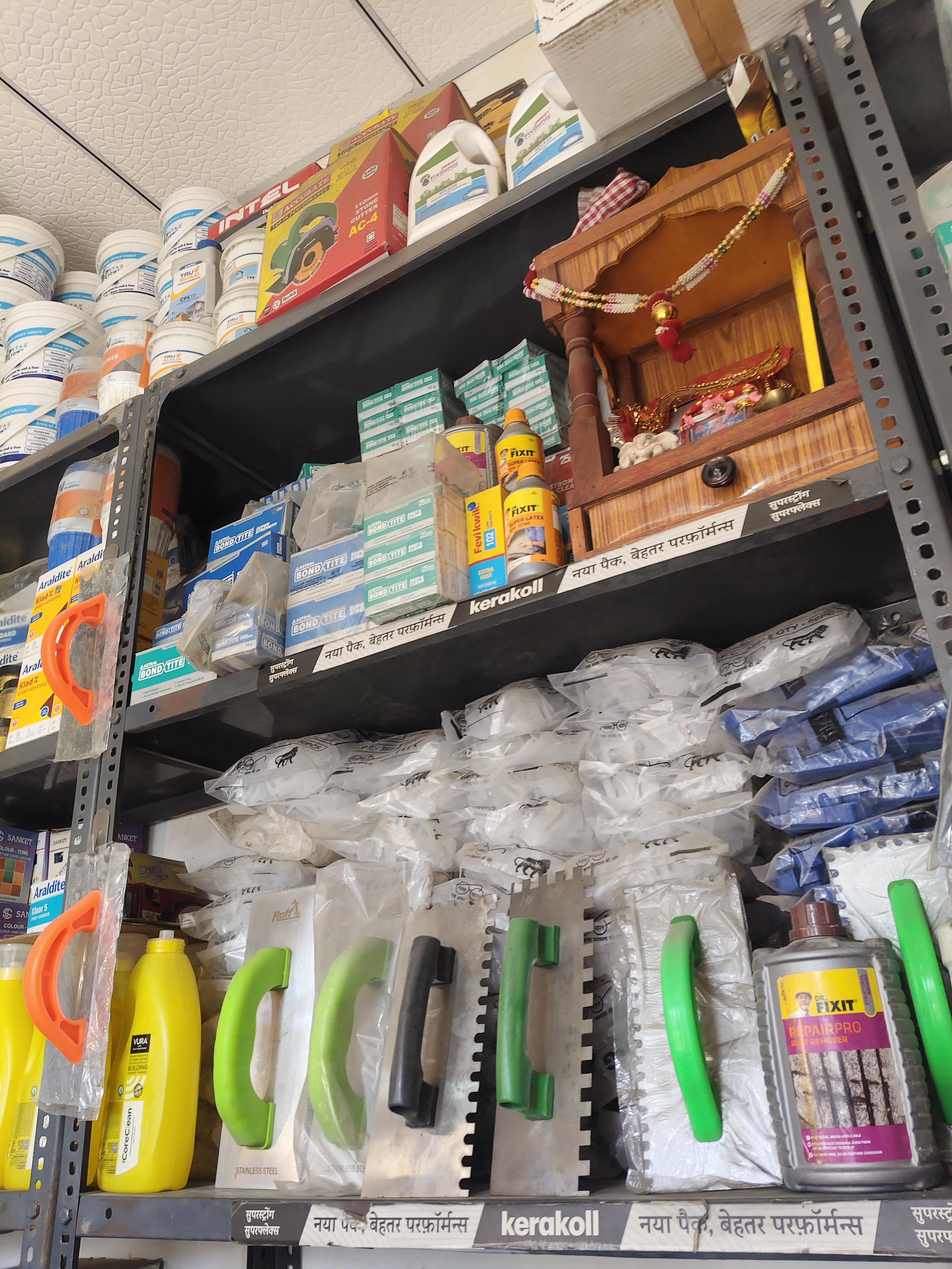BONDTITE_FAST - CLEAR: (506, 371, 565, 408), (398, 390, 458, 425), (400, 410, 459, 445), (391, 369, 452, 401), (493, 339, 544, 374), (454, 359, 495, 399), (358, 407, 399, 446), (513, 389, 569, 417), (361, 426, 402, 461), (463, 375, 502, 410), (358, 388, 394, 421), (467, 392, 506, 420), (528, 406, 559, 437)
BONDTITE_SUPER STRENGTH: (211, 627, 286, 661), (211, 607, 286, 636), (153, 616, 184, 648), (272, 487, 287, 502), (299, 474, 313, 490), (286, 480, 300, 493), (258, 493, 273, 505)
